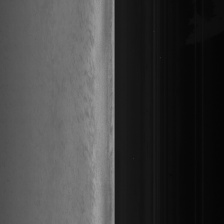silk_spot: (77, 81, 95, 140)
